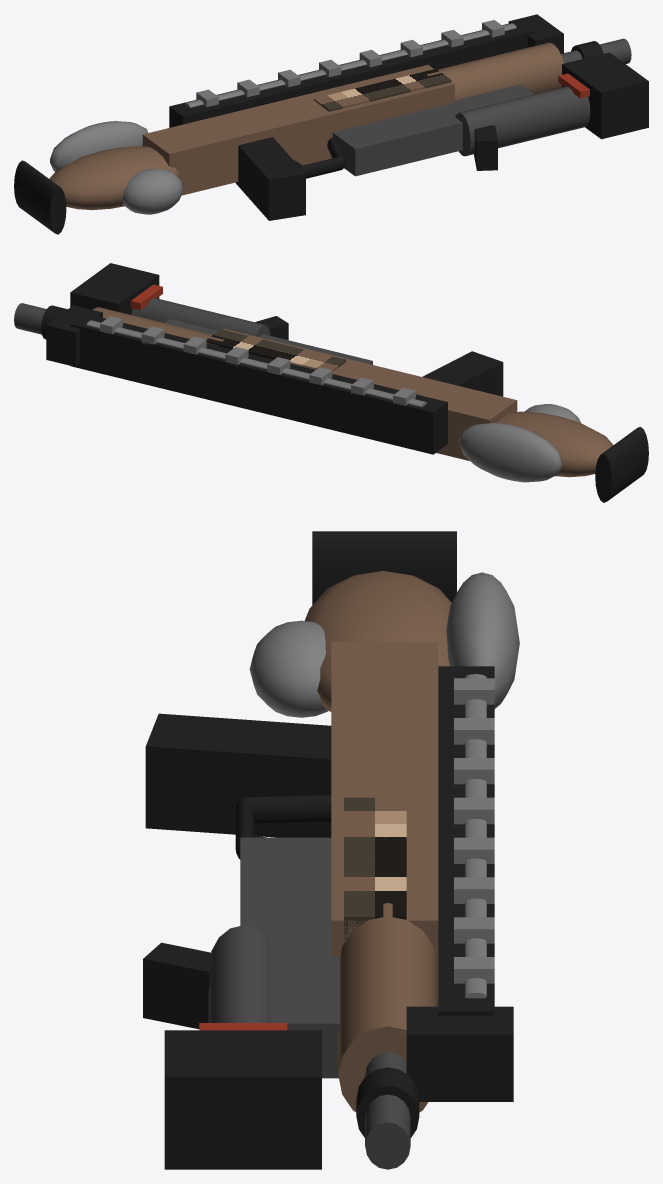
Rendered from CMU3DWorldWeaponRifleM5SPRCloud.glb.
3 views of the same model, one above another, from view 1: azimuth 30°, elevation 25°; view 2: azimuth 150°, elevation 25°; view 3: azimuth 270°, elevation 25° (orthographic). The views are drawn at different scales.
Visible parts, largest first — view 1: tan receiver, lower receiver step, upper dark receiver rail, default underbarrel flare attachment, flare attachment front casing, sculpted tan stock core, tan barrel shroud, black pistol grip, stock upper gray cheek, rear dark butt rim, stock lower gray heel, original receiver tan detail (+7 smaller); view 2: upper dark receiver rail, tan receiver, stock upper gray cheek, sculpted tan stock core, flare attachment front casing, rear dark butt rim, default underbarrel flare attachment, black pistol grip, original receiver tan detail, front sight block, upper rail highlight, tan barrel shroud (+6 smaller); view 3: tan receiver, flare attachment front casing, black pistol grip, lower receiver step, tan barrel shroud, front sight block, sculpted tan stock core, upper dark receiver rail, original receiver tan detail, rear dark butt rim, stock upper gray cheek, stock lower gray heel (+14 smaller).
Part boxes in pixels (left/top/right/bottom): tan receiver: left=142, top=65, right=454, bottom=195; lower receiver step: left=332, top=84, right=533, bottom=176; upper dark receiver rail: left=169, top=20, right=536, bottom=127; default underbarrel flare attachment: left=455, top=86, right=590, bottom=156; flare attachment front casing: left=562, top=52, right=648, bottom=139; sculpted tan stock core: left=49, top=146, right=180, bottom=210; tan barrel shroud: left=426, top=42, right=563, bottom=100; black pistol grip: left=235, top=137, right=305, bottom=220; stock upper gray cheek: left=50, top=121, right=148, bottom=171; rear dark butt rim: left=14, top=160, right=66, bottom=234; stock lower gray heel: left=122, top=168, right=183, bottom=214; original receiver tan detail: left=313, top=69, right=451, bottom=111; upper dark receiver rail: left=70, top=313, right=447, bottom=454; tan receiver: left=223, top=328, right=517, bottom=460; stock upper gray cheek: left=459, top=423, right=562, bottom=482; sculpted tan stock core: left=497, top=411, right=613, bottom=477; flare attachment front casing: left=70, top=263, right=159, bottom=314; rear dark butt rim: left=595, top=427, right=648, bottom=502; default underbarrel flare attachment: left=131, top=298, right=270, bottom=336; black pistol grip: left=422, top=351, right=503, bottom=396; original receiver tan detail: left=206, top=329, right=346, bottom=371; front sight block: left=46, top=305, right=102, bottom=366; upper rail highlight: left=86, top=320, right=426, bottom=407; tan barrel shroud: left=93, top=307, right=224, bottom=345; tan receiver: left=331, top=642, right=438, bottom=1006; flare attachment front casing: left=164, top=1030, right=321, bottom=1169; black pistol grip: left=145, top=713, right=331, bottom=837; lower receiver step: left=240, top=837, right=339, bottom=1078; tan barrel shroud: left=338, top=903, right=437, bottom=1112; front sight block: left=406, top=1006, right=513, bottom=1101; sculpted tan stock core: left=304, top=571, right=451, bottom=711; upper dark receiver rail: left=438, top=666, right=494, bottom=1015; original receiver tan detail: left=344, top=797, right=406, bottom=939; rear dark butt rim: left=312, top=531, right=456, bottom=604; stock upper gray cheek: left=446, top=572, right=519, bottom=708; stock lower gray heel: left=249, top=620, right=328, bottom=717.
Bounding box in the file's own units: 1.37 × 0.146 × 0.3747.
6 materials, 1 textured.
